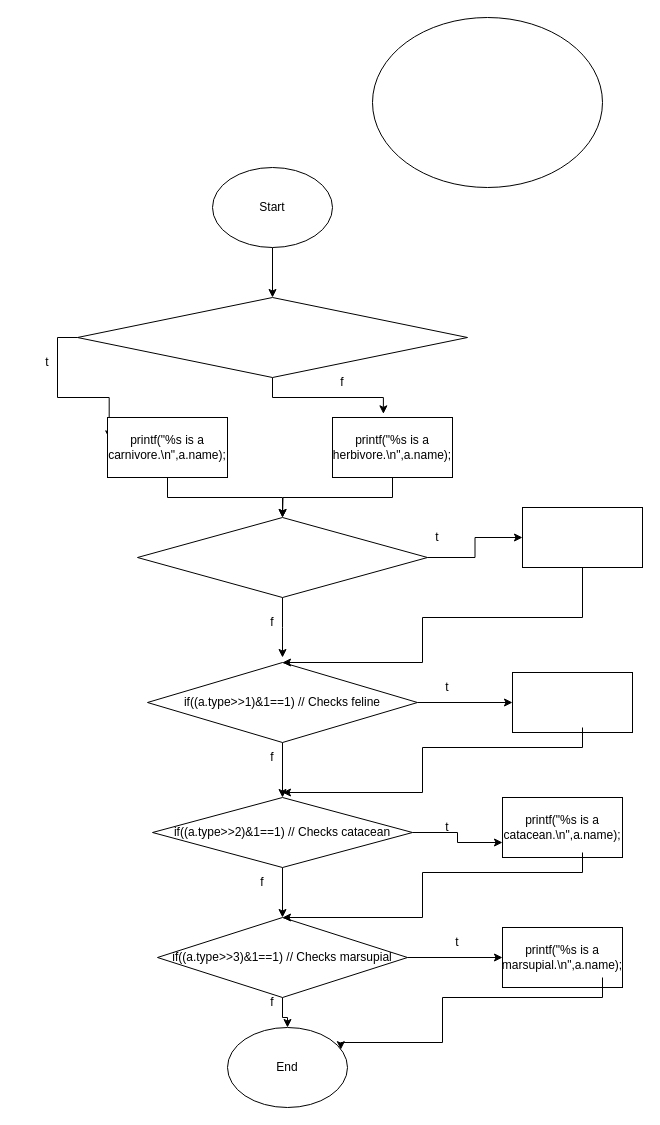
Image size: 660x1125. Some labels were removed from this diagram. Here are the shapes that lost their labels. From the top down, the box of each, then its label:
(372, 16, 602, 188): struct animal // Animal struct { char name[30]; int type; } a={"OCELOT",18};
(76, 296, 468, 378): if((a.type>>4)&1==1) // Checks carnivore vs herbivore
(136, 516, 428, 598): if((a.type>>0)&1==1) // Checks canine
(522, 506, 642, 568): printf("%s is a canine.\n",a.name);
(512, 672, 632, 732): printf("%s is a feline.\n",a.name);
